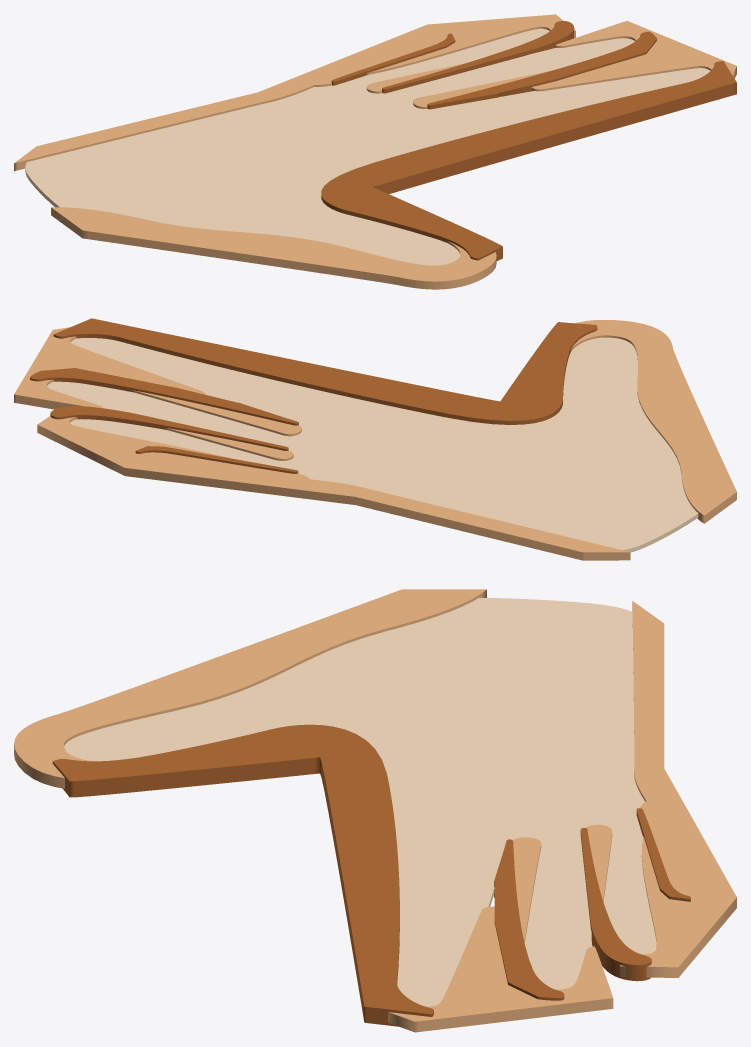
File: emoji_u1faf3_1f3fb.glb
3 views of the same model, one above another, from view 1: azimuth 30°, elevation 25°; view 2: azimuth 150°, elevation 25°; view 3: azimuth 270°, elevation 25° (orthographic). The views are drawn at different scales.
Visible parts, largest first — view 1: emoji_u1faf3_1f3fb; view 2: emoji_u1faf3_1f3fb; view 3: emoji_u1faf3_1f3fb.
Part boxes in pixels (left/top/right/bottom): emoji_u1faf3_1f3fb: left=14, top=14, right=736, bottom=289; emoji_u1faf3_1f3fb: left=14, top=318, right=736, bottom=560; emoji_u1faf3_1f3fb: left=14, top=589, right=736, bottom=1032.
Size of the model in its own units: 0.0345 by 0.0006 by 0.0244.
